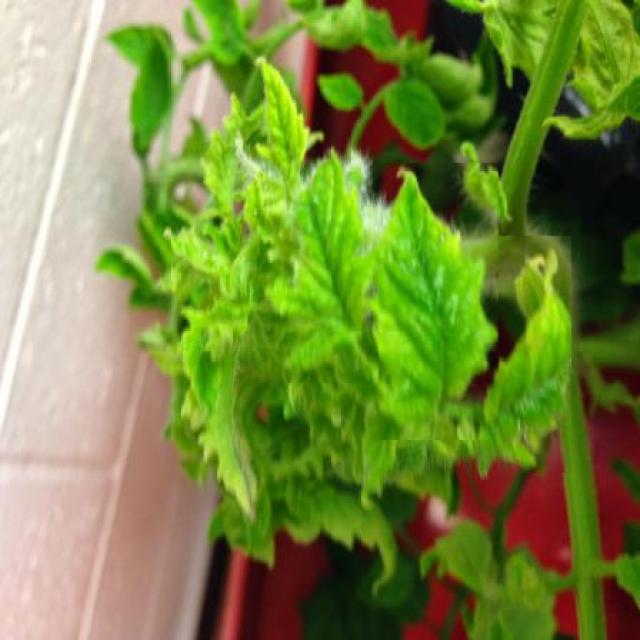Yellow Leaf Curl Virus: (380, 163, 500, 440), (288, 120, 373, 383), (480, 236, 571, 474)
